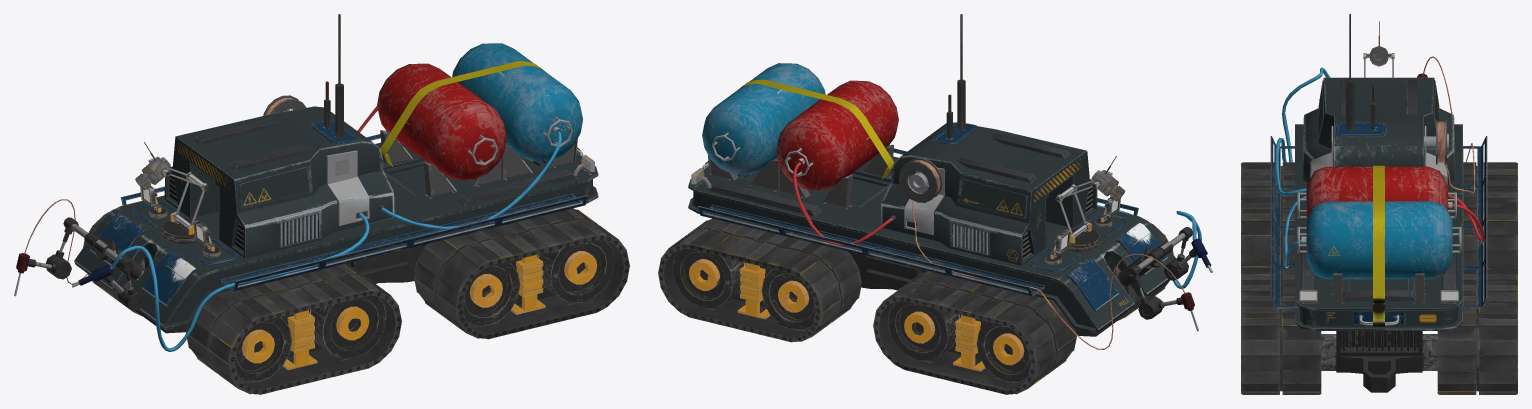
File: bench-welder.glb
3 renders of one model, left to right at view 1: azimuth 30°, elevation 25°; view 2: azimuth 150°, elevation 25°; view 3: azimuth 270°, elevation 25°, orthographic. The views are drawn at different scales.
Parts seen in each view (by area): view 1: hull; view 2: hull; view 3: hull.
Boxes of the visible parts, box(x1,y1,x2,y2) form: hull: box(14, 14, 629, 394); hull: box(658, 14, 1212, 394); hull: box(1241, 14, 1517, 394).
Size of the model in its own units: 8 by 4.31 by 3.77.
3 materials, 3 textured.
